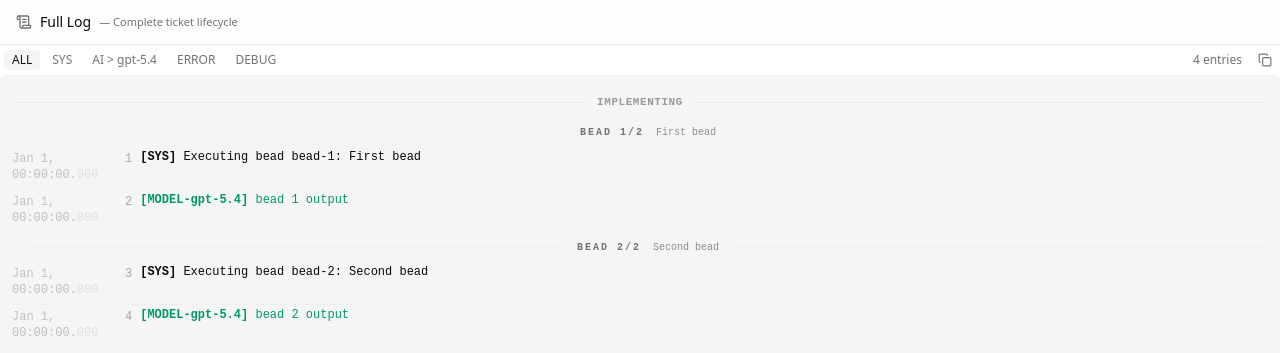
Scenario: FullLogView › preserves bead section headers in AI view even when bead-start markers are filtered out
Click the button "AI > gpt-5.4".
click(125, 60)  # box [84,50,165,70]
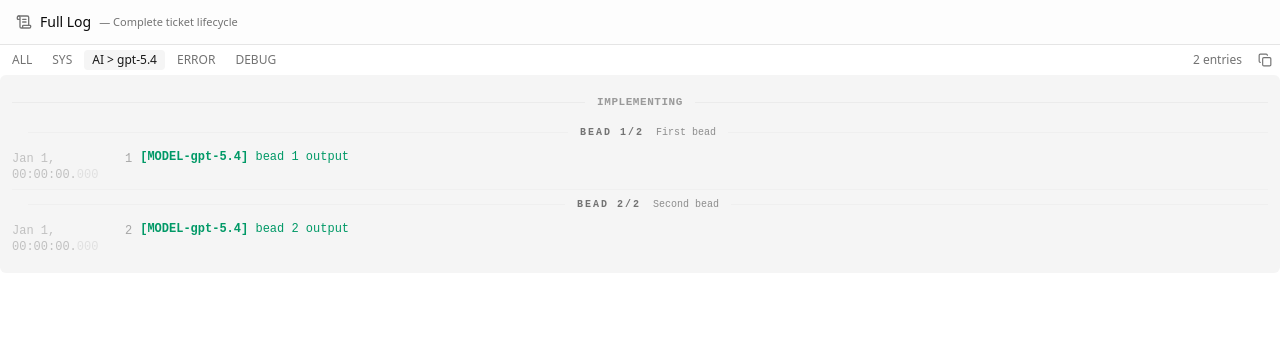
Expected: the text "Bead 1/2" is shown, [580,126,644,139]
Expected: the text "Executing bead bead-1" is gone
